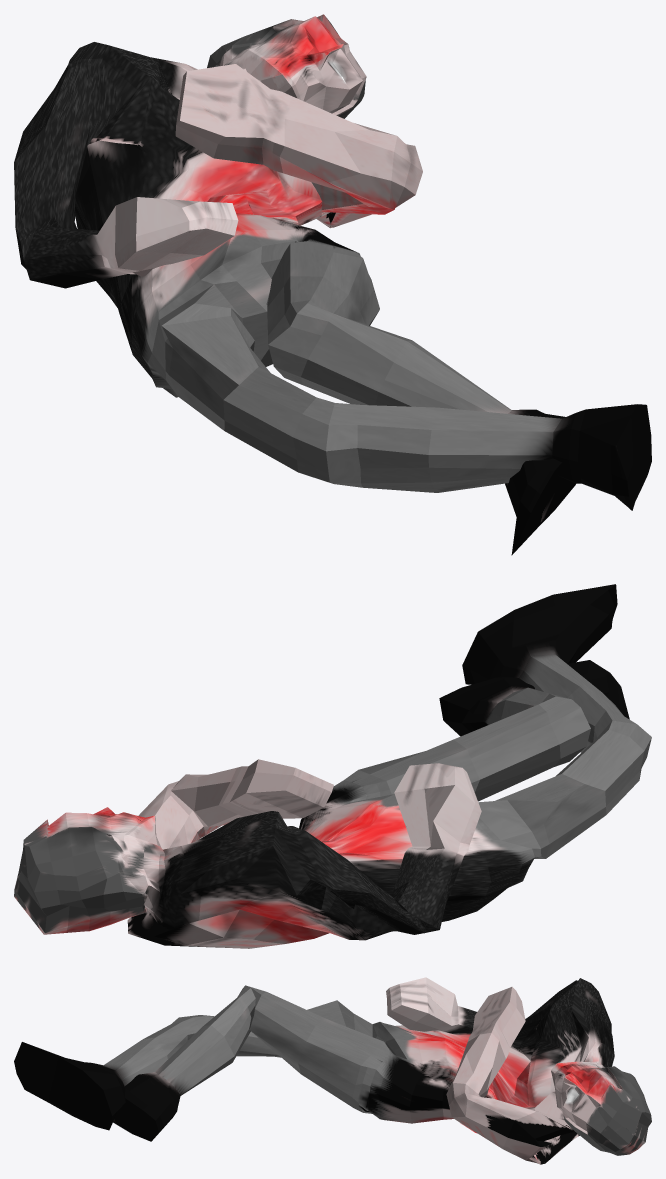
The model's file is Male_Deader_Poses_03.fbx.
The picture shows the model from 3 angles, top to bottom: view 1: azimuth 30°, elevation 25°; view 2: azimuth 150°, elevation 25°; view 3: azimuth 270°, elevation 25°; orthographic projection. The views are drawn at different scales.
Parts seen in each view (by area): view 1: MD.004; view 2: MD.004; view 3: MD.004.
Boxes of the visible parts, bbox=[...] form: MD.004: bbox=[14, 14, 651, 555]; MD.004: bbox=[14, 584, 651, 948]; MD.004: bbox=[14, 977, 651, 1164].
Bounding box in the file's own units: 75.56 × 37.83 × 164.
Materials: 1 (1 with a texture image).
